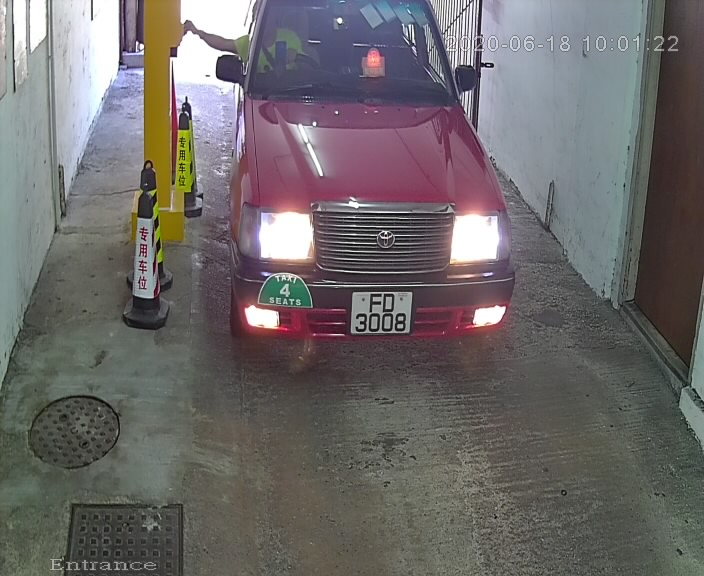taxi: (204, 2, 525, 384)
taxi_mark: (252, 267, 322, 314)
